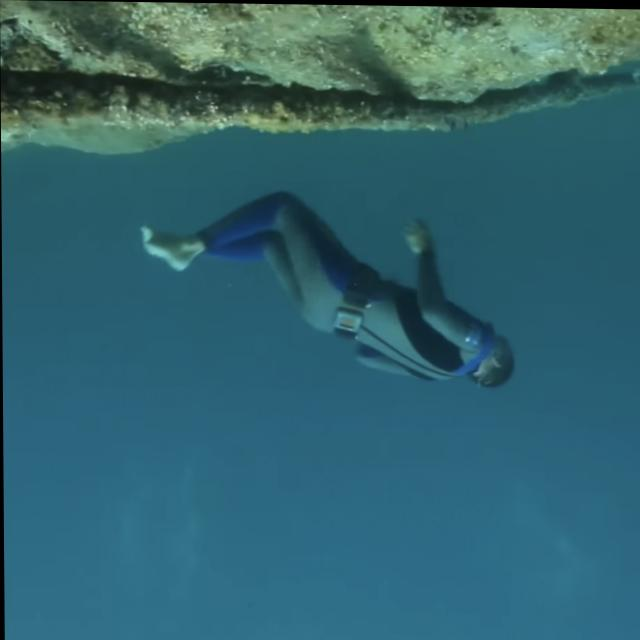human: (138, 183, 525, 397)
